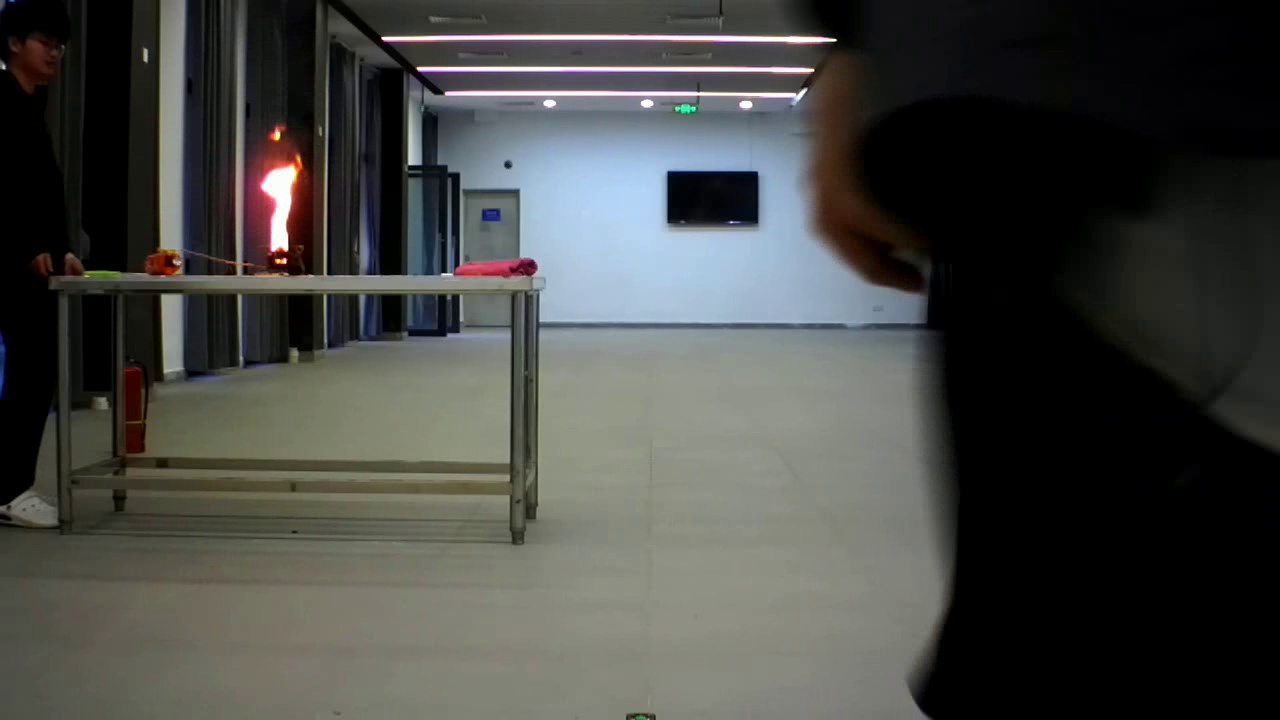Fire: (251, 106, 310, 264)
